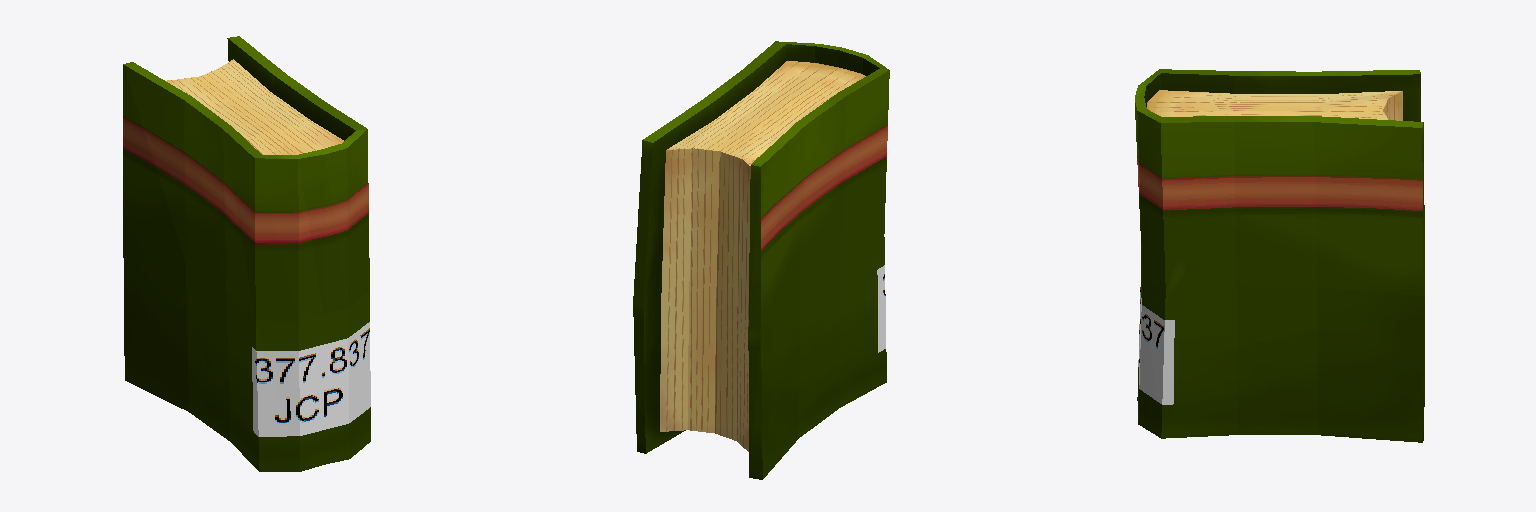
3 views of the same model, side by side, from view 1: azimuth 30°, elevation 25°; view 2: azimuth 150°, elevation 25°; view 3: azimuth 270°, elevation 25° (orthographic).
Parts seen in each view (by area): view 1: Cover.001, Pages.002; view 2: Cover.001, Pages.002; view 3: Cover.001, Pages.002.
Boxes of the visible parts, x1,y1,x2,y2 form: Cover.001: [123, 36, 370, 471]; Pages.002: [166, 59, 343, 154]; Cover.001: [633, 41, 889, 479]; Pages.002: [660, 61, 865, 451]; Cover.001: [1135, 69, 1424, 442]; Pages.002: [1147, 90, 1402, 120].
Size of the model in its own units: 2.93 by 7.05 by 5.85.
2 materials, 2 textured.